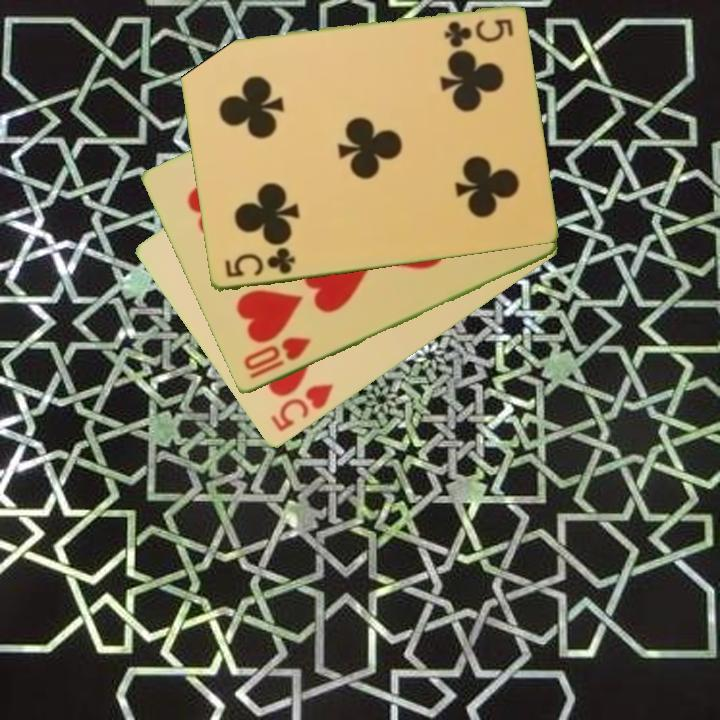10h: (240, 334, 314, 383)
5c: (221, 244, 298, 281), (440, 15, 516, 46)
5h: (266, 380, 336, 435)
